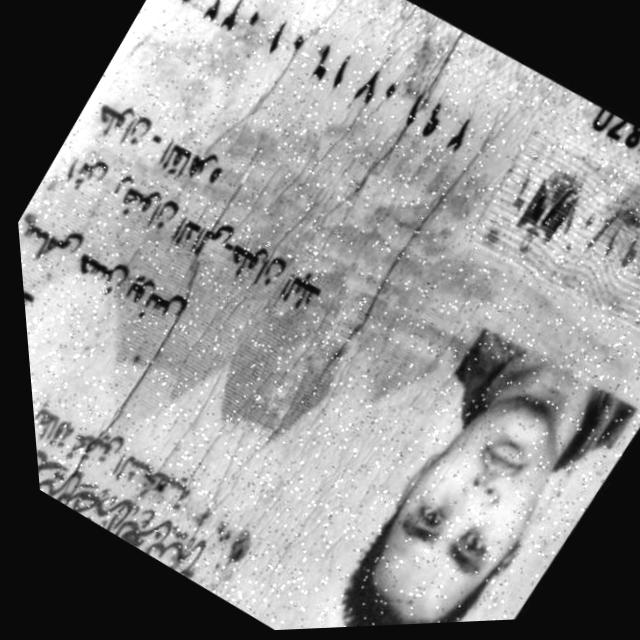id_card: (18, 0, 640, 630)
